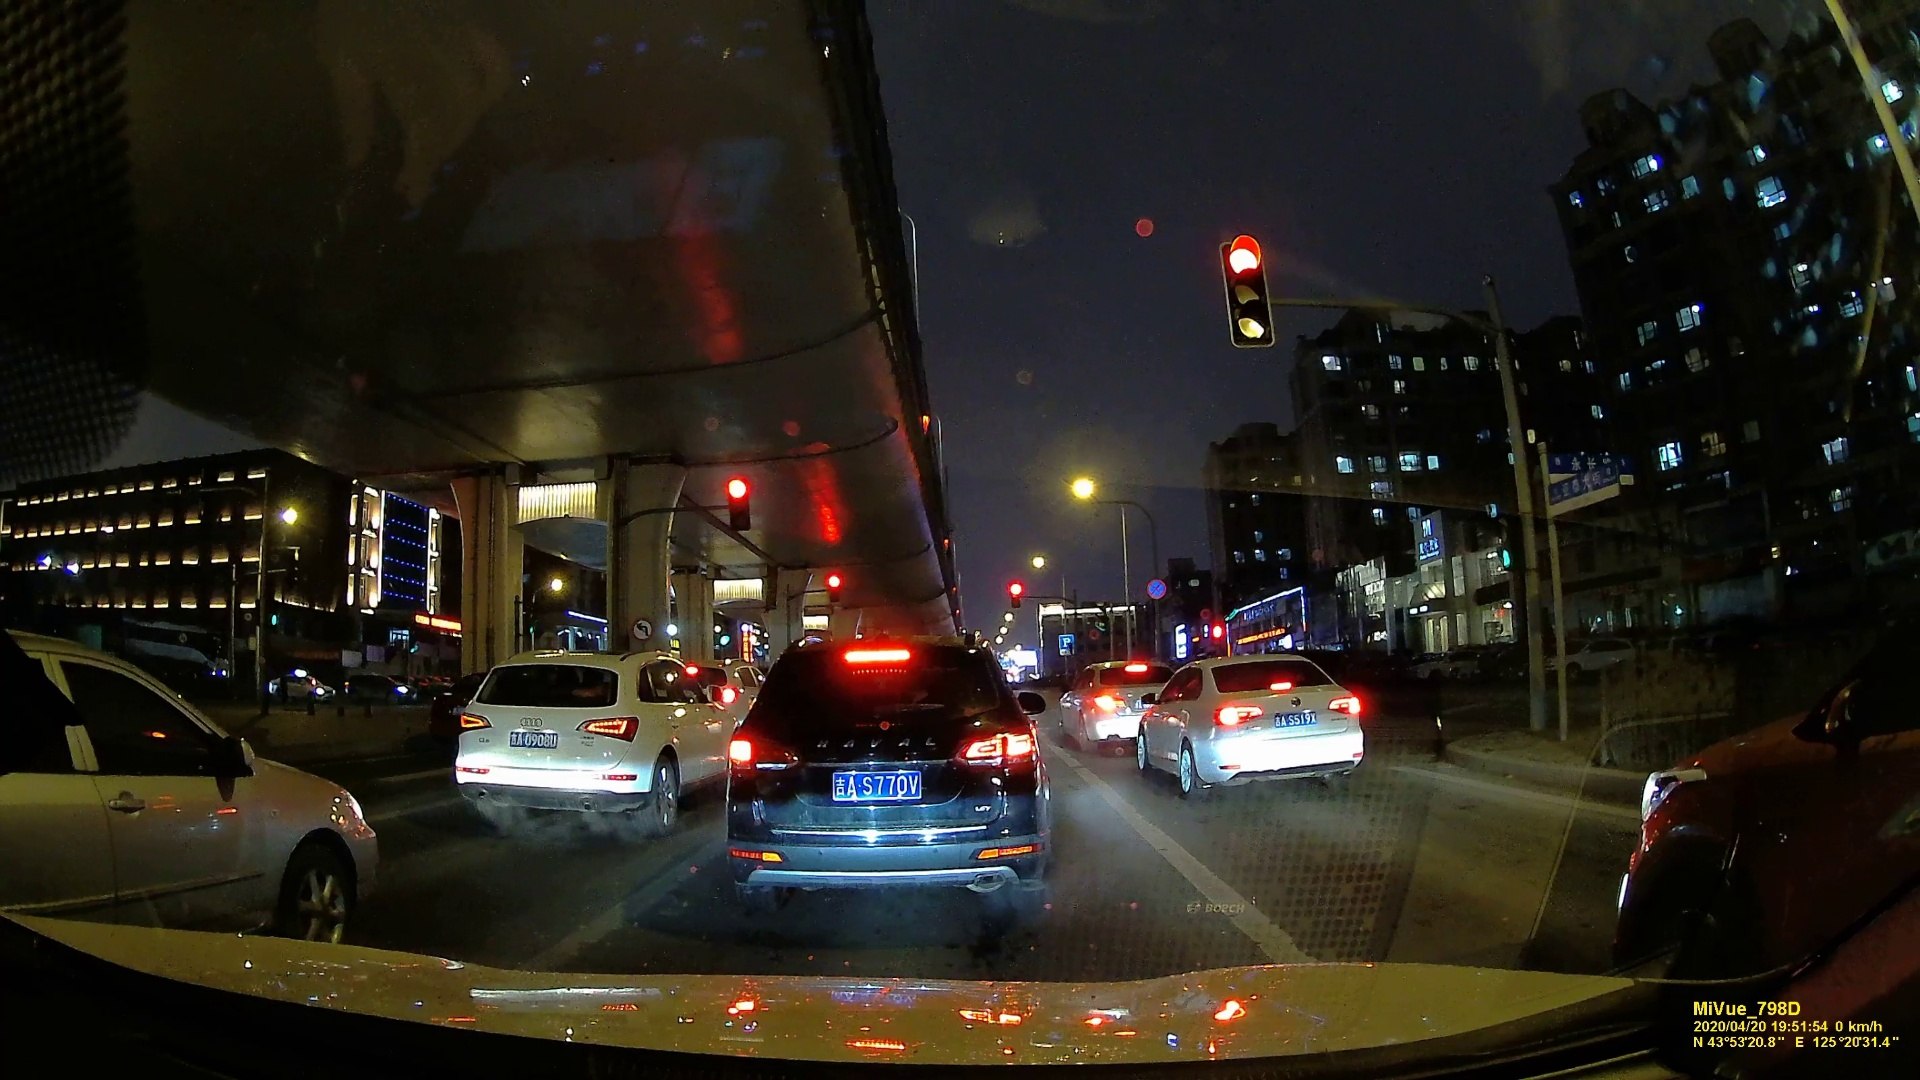traffic_sign: (1222, 240, 1266, 348), (1543, 465, 1625, 506), (1485, 498, 1520, 568), (723, 475, 749, 526), (1145, 576, 1168, 604), (1056, 633, 1077, 658), (825, 572, 843, 603), (630, 618, 653, 641), (1007, 583, 1023, 613)
vehicle: (1, 640, 377, 948), (723, 642, 1048, 914), (448, 651, 728, 825), (1135, 649, 1371, 802), (1063, 655, 1163, 750)
